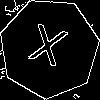X: (24, 23, 69, 77)
